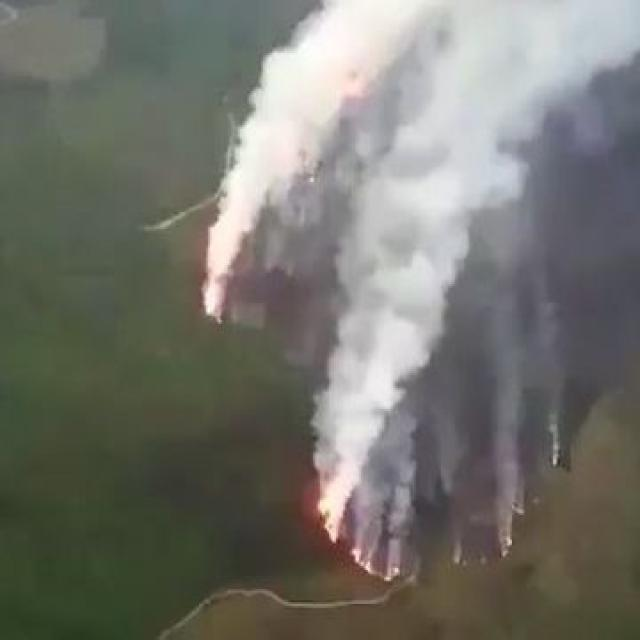Smoke: (219, 0, 639, 579)
